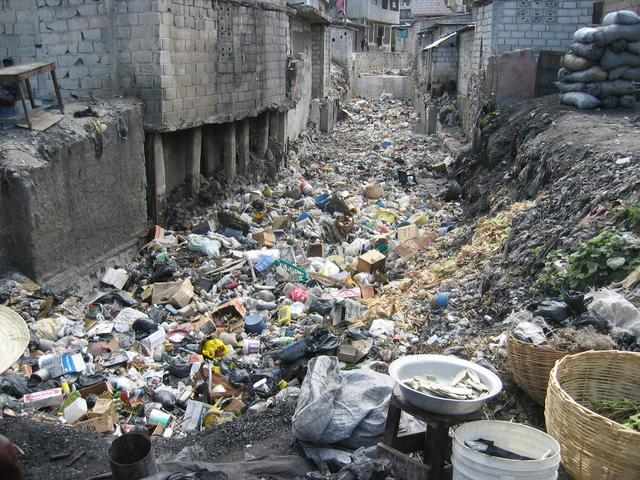garbage: (287, 166, 456, 327), (163, 232, 268, 403), (44, 303, 156, 407)
